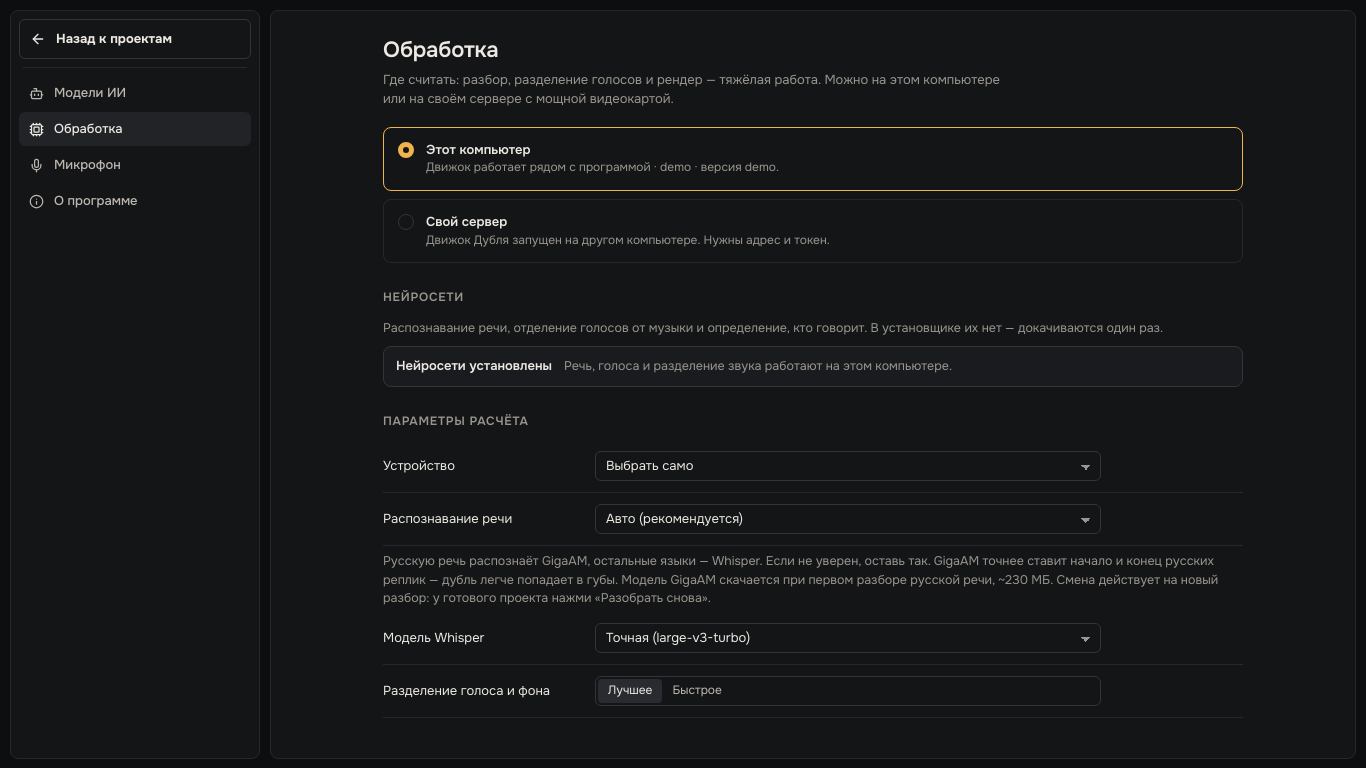
Test: распознавание речи: язык по речи и GigaAM › Настройки → Обработка: выбор распознавателя сохраняется, пояснение без жаргона, про скачивание GigaAM
Expected: the text with test id "asr-explain" shows "Если не уверен, оставь так", [383,553,930,569]
Expected: the text with test id "asr-explain" shows "скачается при первом разборе русской речи, ~230 МБ", [618,572,1053,588]
Select "GigaAM — только русский" in the dropdown named "Распознавание речи": (848, 519) [595,504,1101,534]
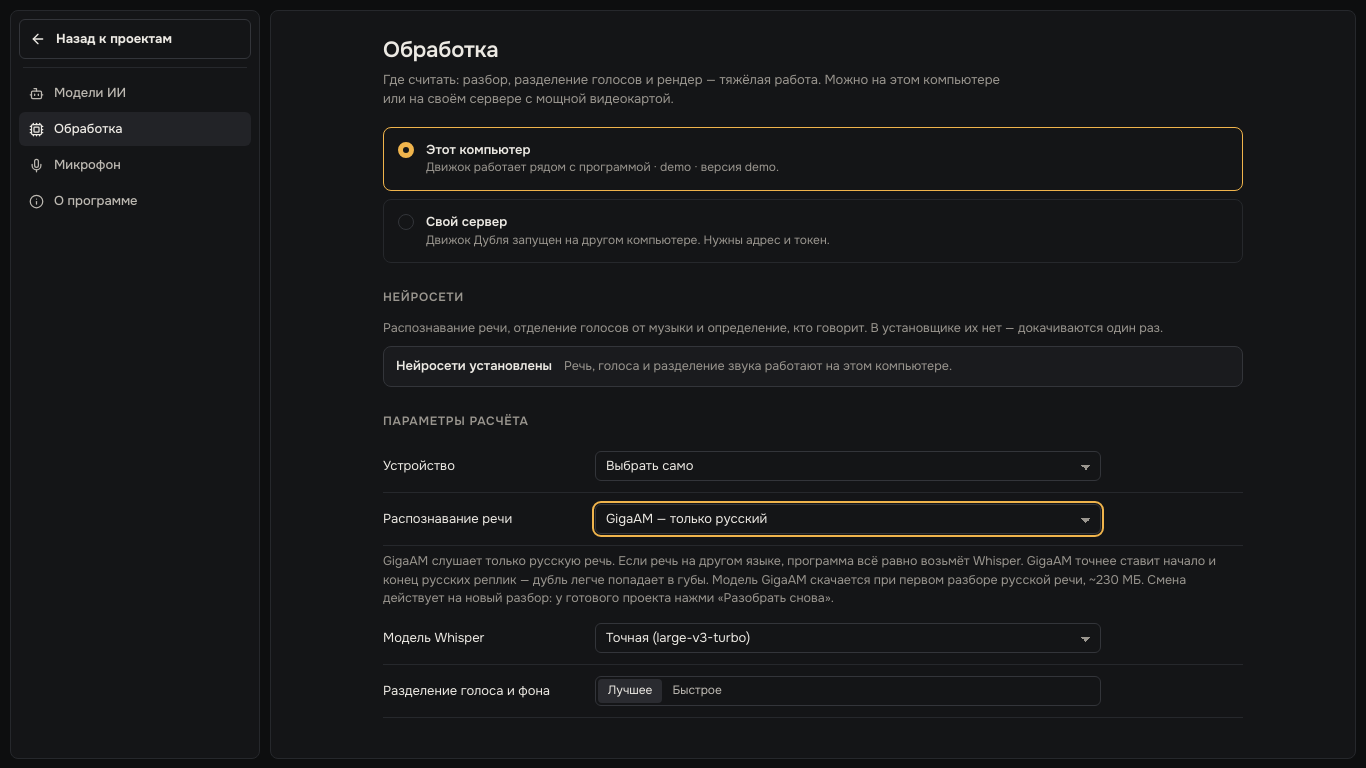
Result: the text with test id "asr-explain" shows "всё равно возьмёт Whisper" at [383,553,1023,569]
